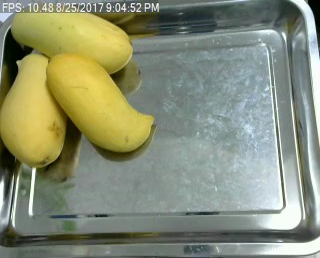Mango: (41, 50, 159, 152), (8, 7, 136, 79), (0, 50, 70, 168)
